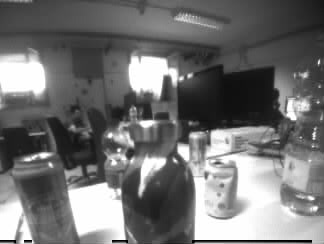Bottle: (123, 120, 196, 244), (284, 53, 324, 215), (101, 123, 126, 199), (128, 104, 137, 121)
Tin can: (12, 151, 76, 244), (205, 161, 238, 219), (189, 131, 205, 176)
